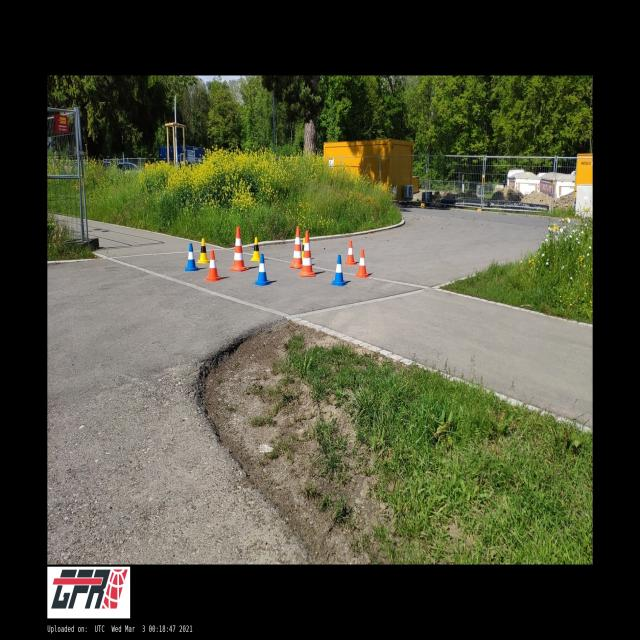blue_cone: (255, 254, 270, 286), (331, 255, 346, 286), (185, 243, 198, 271)
large_orange_cone: (229, 227, 249, 271), (300, 230, 316, 276), (289, 226, 302, 268)
orange_cone: (205, 251, 221, 281), (356, 250, 369, 277), (345, 240, 356, 265)
yellow_cone: (198, 238, 210, 263), (250, 237, 260, 261), (302, 238, 305, 260)
